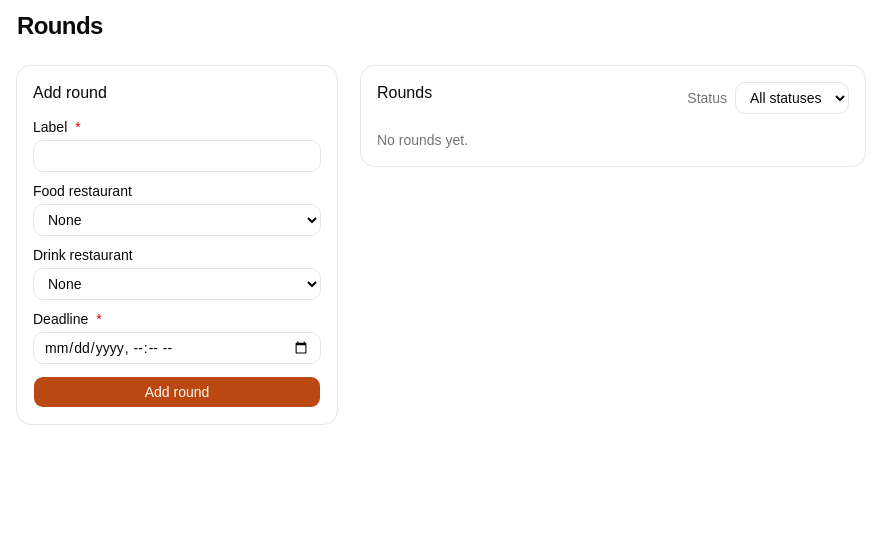
Test: Rounds › shows inline errors and does not submit when required fields are empty
Check: the text "No rounds yet." is shown, box [377,132,468,148]
Click the button "Add round": point(177, 392) [33,376,321,408]
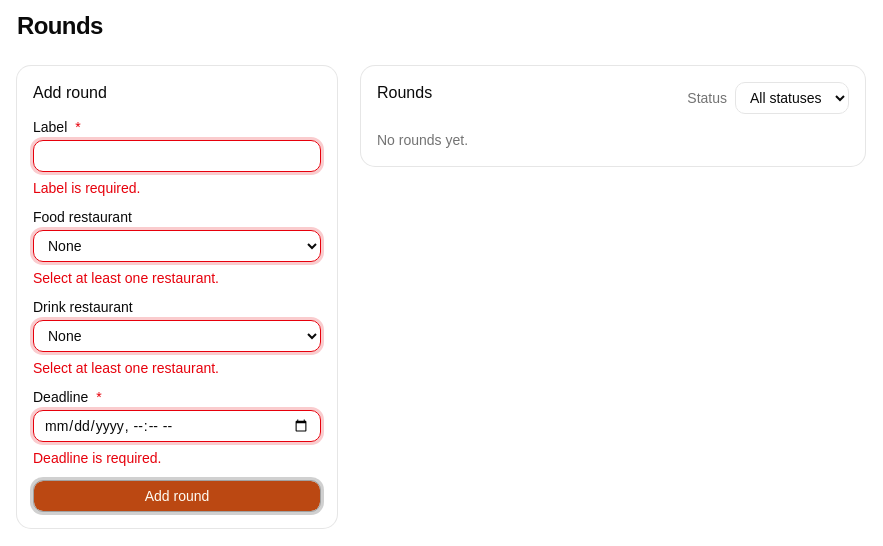
Check: the text "Label is required." is shown, box [33,180,140,196]
Check: the text "Deadline is required." is shown, box [33,450,161,466]
